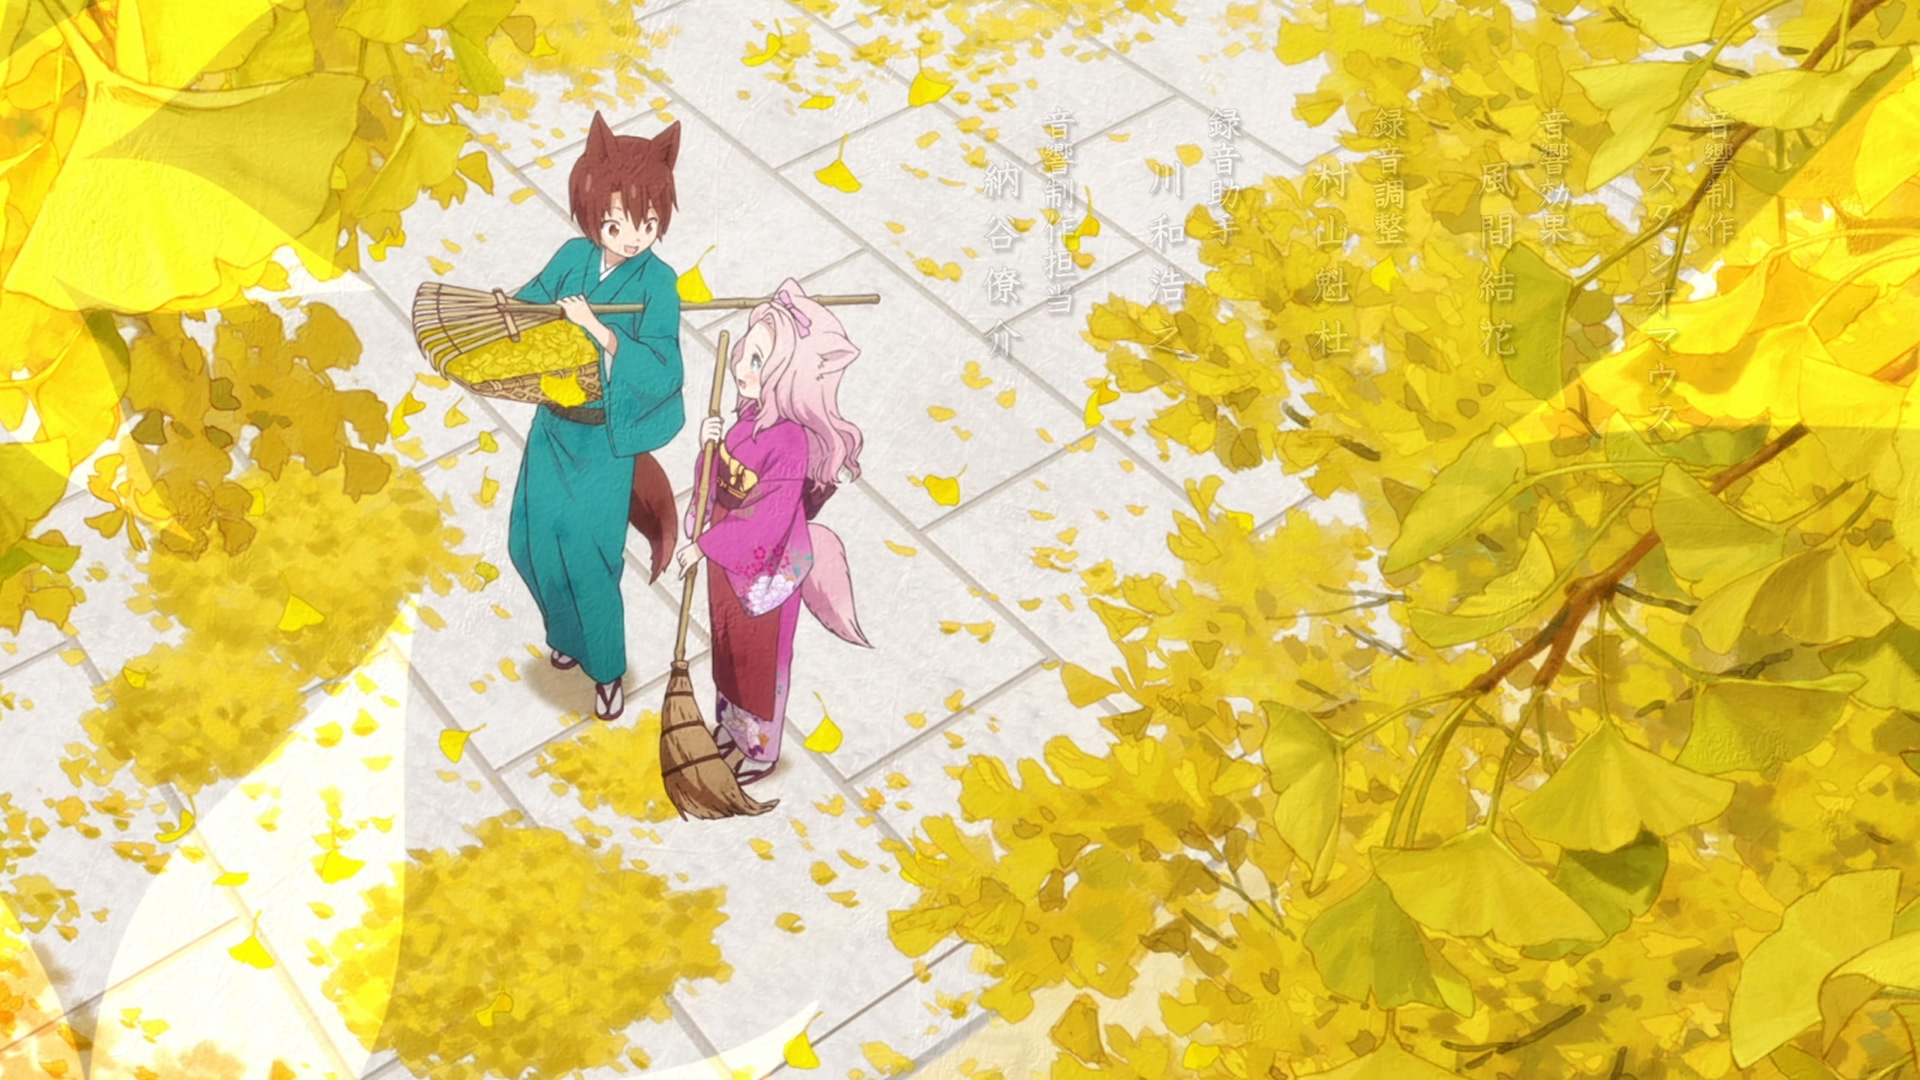枣: (509, 112, 687, 723)
莲: (676, 278, 876, 786)
